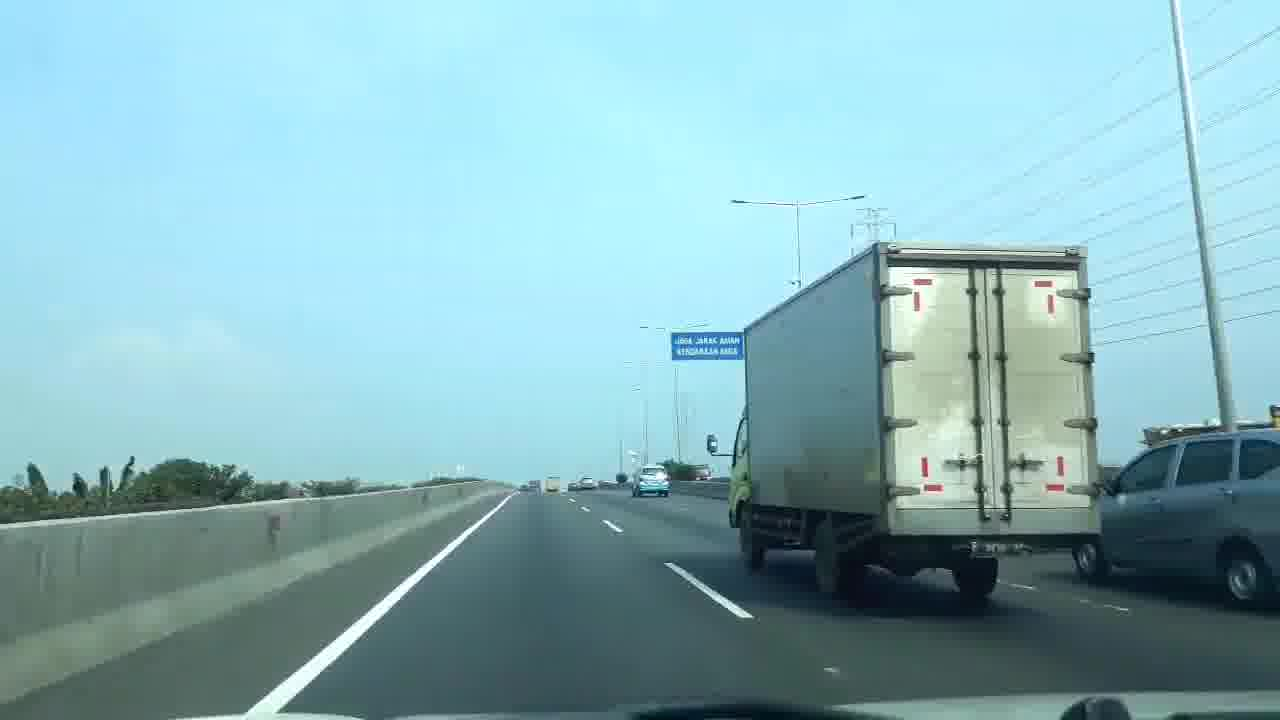plate_positive: (968, 540, 1030, 559)
